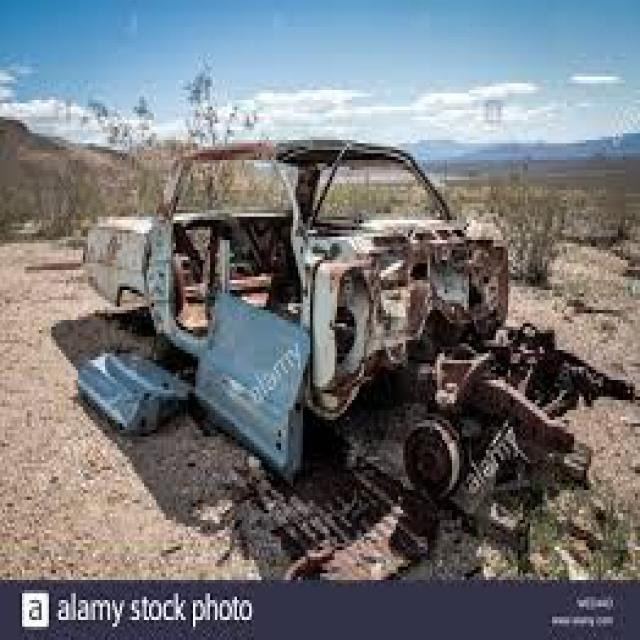damaged-door: (225, 148, 298, 373)
